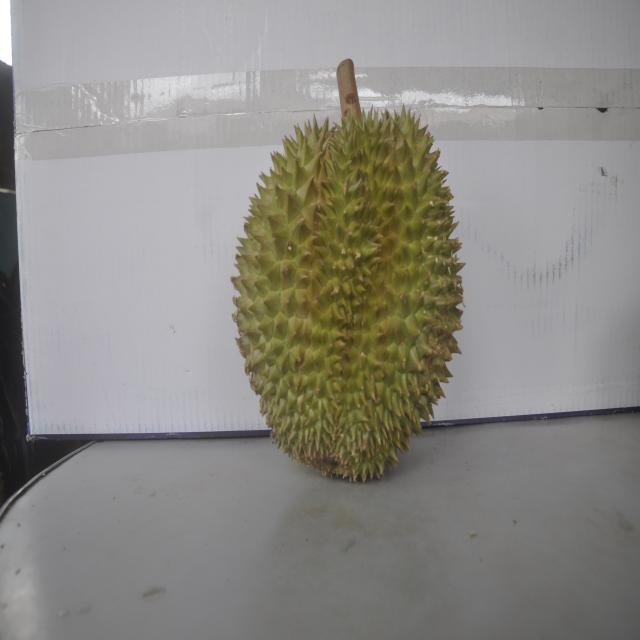mature: (230, 84, 452, 483)
